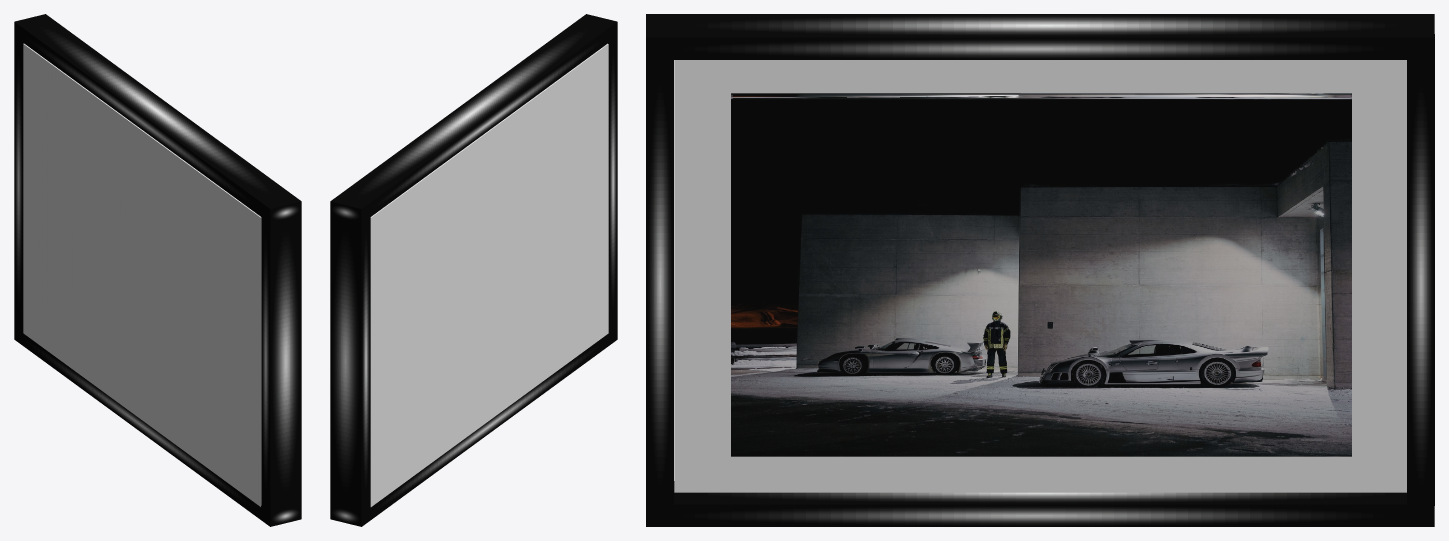
File: frame-image7.glb
3 views of the same model, side by side, from view 1: azimuth 30°, elevation 25°; view 2: azimuth 150°, elevation 25°; view 3: azimuth 270°, elevation 25° (orthographic). The views are drawn at different scales.
Parts seen in each view (by area): view 1: Cube, Cube (1), Cube (3), Cube (4), Cube (2); view 2: Cube, Cube (1), Cube (2), Cube (4), Cube (3); view 3: image, Cube, Cube (1), Cube (4), Cube (2), Cube (3).
Boxes of the visible parts, x1,y1,x2,y2 form: Cube: (23, 43, 261, 506); Cube (1): (14, 14, 301, 223); Cube (3): (261, 215, 301, 513); Cube (4): (14, 326, 301, 526); Cube (2): (14, 35, 23, 331); Cube: (370, 43, 608, 506); Cube (1): (330, 14, 617, 221); Cube (2): (330, 214, 370, 513); Cube (4): (330, 326, 617, 526); Cube (3): (608, 35, 617, 331); image: (731, 93, 1351, 456); Cube: (674, 60, 1406, 492); Cube (1): (646, 14, 1434, 59); Cube (4): (646, 481, 1434, 526); Cube (2): (1407, 34, 1434, 505); Cube (3): (646, 60, 673, 504).
Size of the model in its own units: 20.01 by 193 by 282.
3 materials, 2 textured.
